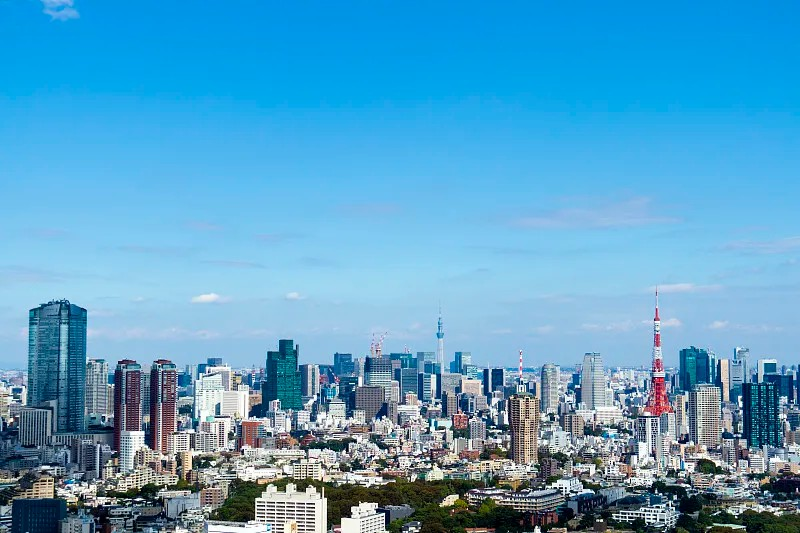Tokyo: (640, 283, 674, 414)
